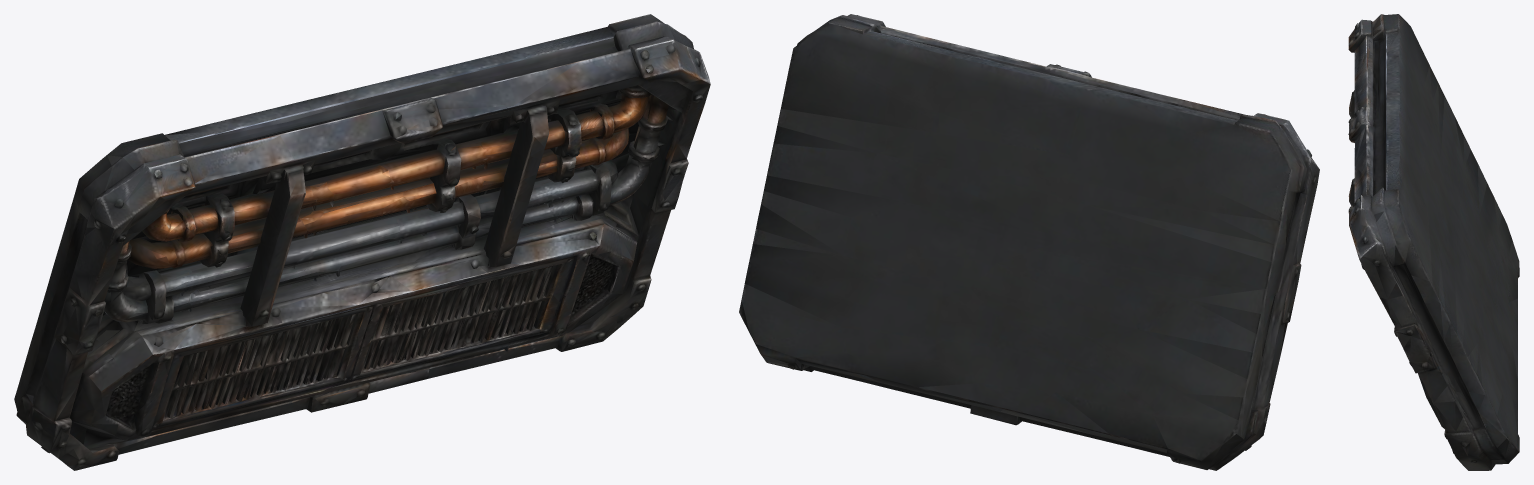
File: CeilingDuctCassette.glb
3 renders of one model, left to right at view 1: azimuth 30°, elevation 25°; view 2: azimuth 150°, elevation 25°; view 3: azimuth 270°, elevation 25°, orthographic. The views are drawn at different scales.
Visible parts, largest first — view 1: tripo_node_d0a9c762-42e3-429b-8231-ddab69f5e1b4; view 2: tripo_node_d0a9c762-42e3-429b-8231-ddab69f5e1b4; view 3: tripo_node_d0a9c762-42e3-429b-8231-ddab69f5e1b4.
Part boxes in pixels (box(x1,y1,x2,y2)): tripo_node_d0a9c762-42e3-429b-8231-ddab69f5e1b4: box(14, 14, 710, 470); tripo_node_d0a9c762-42e3-429b-8231-ddab69f5e1b4: box(739, 14, 1319, 470); tripo_node_d0a9c762-42e3-429b-8231-ddab69f5e1b4: box(1348, 14, 1519, 470).
Size of the model in its own units: 0.9799 by 0.5613 by 0.3226.
Materials: 1 (1 with a texture image).
